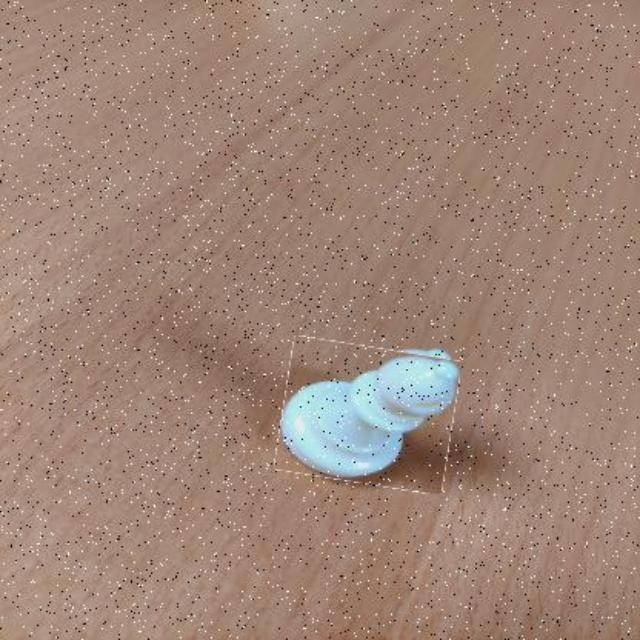white-bishop: (279, 342, 457, 488)
